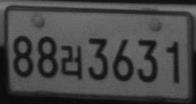1: (163, 40, 184, 83)
3: (135, 38, 158, 83), (87, 37, 109, 81)
6: (112, 39, 134, 82)
8: (11, 34, 34, 78), (36, 35, 58, 79)
러: (61, 44, 82, 79)
